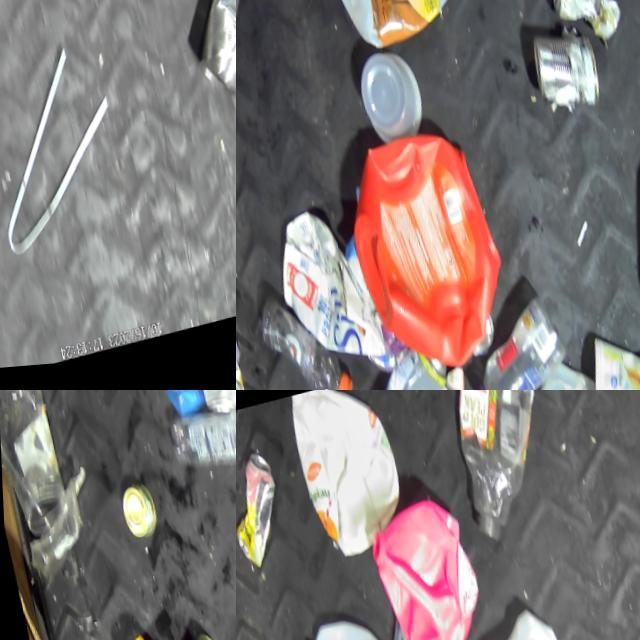can: (526, 24, 606, 132), (168, 0, 236, 105), (236, 450, 290, 576), (549, 0, 623, 62), (116, 484, 156, 539), (186, 390, 236, 424)
milk_jug: (436, 604, 585, 640)
non_white_jug: (340, 126, 511, 382), (368, 504, 486, 640)
plastic_bottle: (437, 390, 554, 547), (448, 293, 566, 390), (253, 281, 348, 390), (164, 393, 236, 489)
